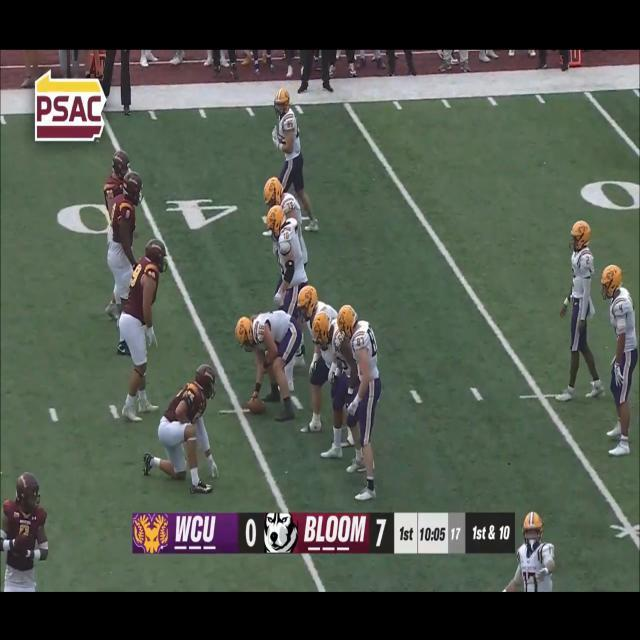football: (240, 395, 270, 416)
